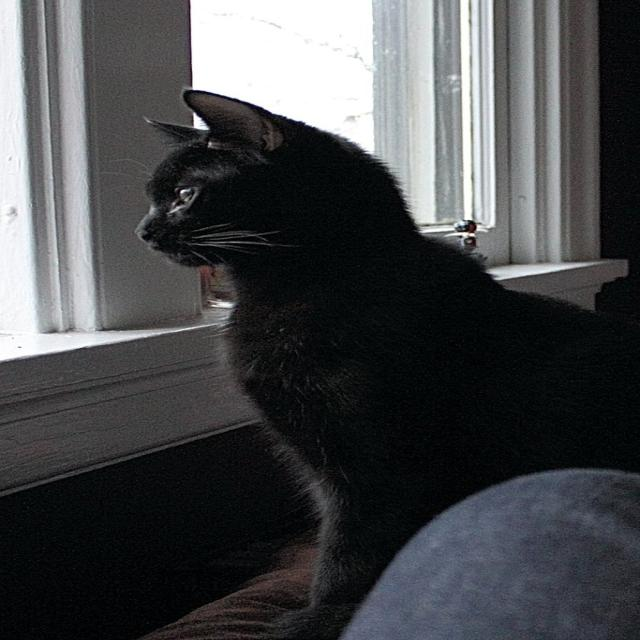Cat: (90, 87, 638, 638)
